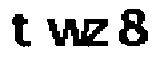8: (117, 6, 150, 50)
t: (6, 10, 35, 52)
w: (44, 16, 89, 52)
z: (88, 17, 112, 51)
